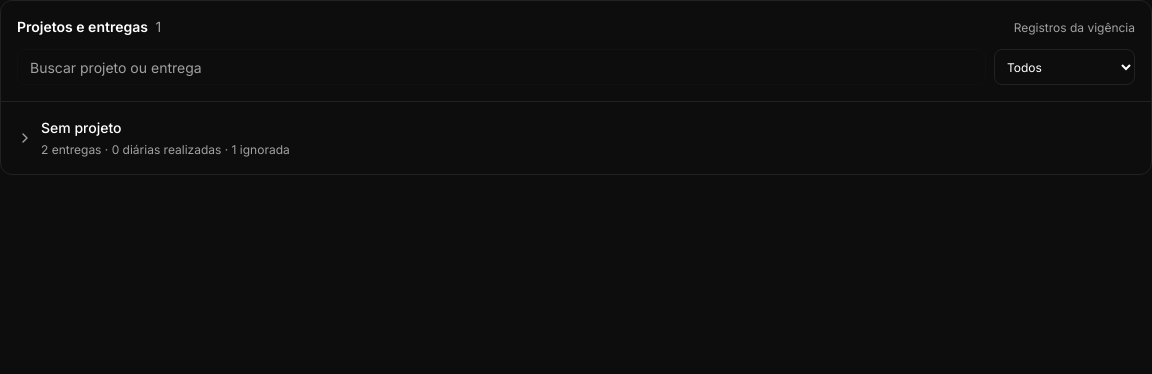
encontra a entrega ignorada e permite reincluir preservando o tipo
This screenshot has width=1152, height=374.
Later steps or results of the test are not shown.
Step 1. Click the button "Sem projeto 2 entregas · 0 diárias realizadas · 1 ignorada" → (81, 128), box [17,118,1135,158]
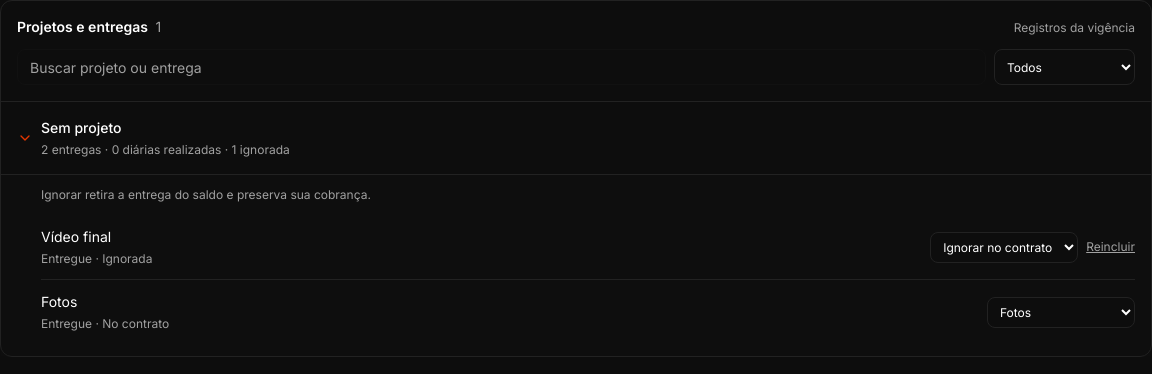
Step 2. Select "Ignoradas" in the dropdown named "Filtrar entregas do contrato" → (1064, 67), box [994,49,1135,85]
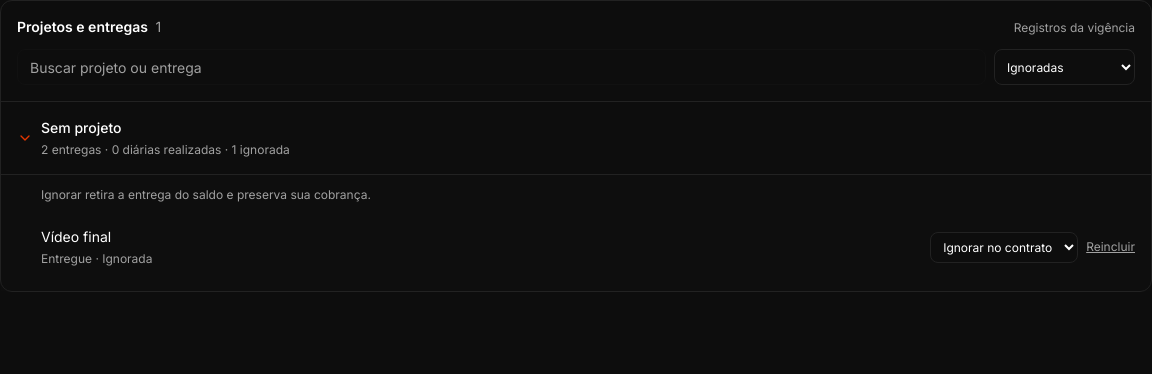
Result: the text "Vídeo final" is shown at [41,228,111,245]
